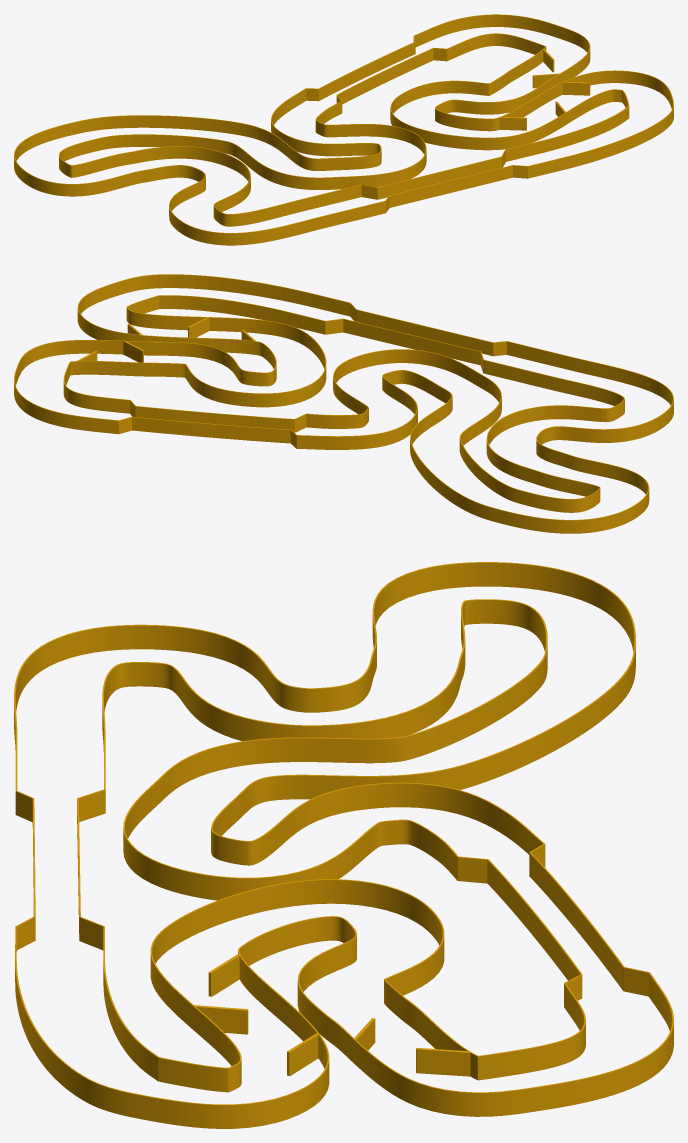
Rendered from WALLS.fbx.
3 views of the same model, one above another, from view 1: azimuth 30°, elevation 25°; view 2: azimuth 150°, elevation 25°; view 3: azimuth 270°, elevation 25° (orthographic). The views are drawn at different scales.
Visible parts, largest first — view 1: THICK_WALLS, LittleWalls; view 2: THICK_WALLS, LittleWalls; view 3: THICK_WALLS, LittleWalls.
Boxes of the visible parts, bbox=[...] form: THICK_WALLS: bbox=[14, 14, 673, 245]; LittleWalls: bbox=[499, 49, 590, 130]; THICK_WALLS: bbox=[14, 274, 673, 533]; LittleWalls: bbox=[77, 317, 253, 362]; THICK_WALLS: bbox=[14, 562, 673, 1128]; LittleWalls: bbox=[194, 956, 470, 1076].
Size of the model in its own units: 4012 by 7812 by 161.
